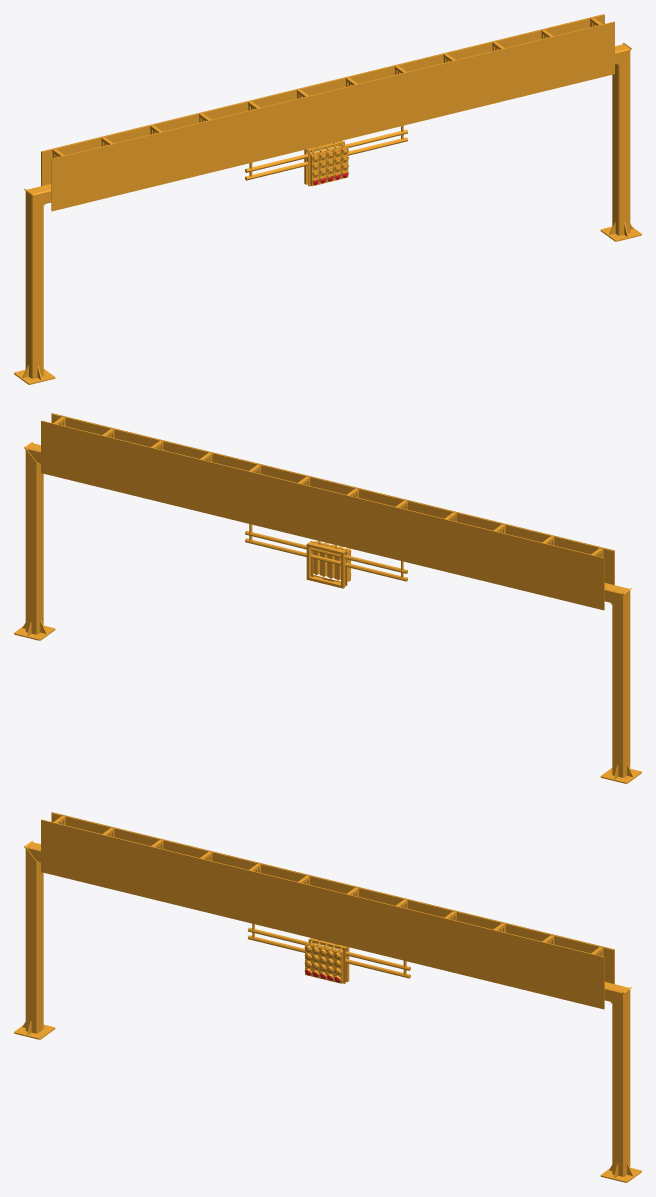
File: SM_ControlGate_Racetrack_Color.fbx
3 views of the same model, one above another, from view 1: azimuth 30°, elevation 25°; view 2: azimuth 150°, elevation 25°; view 3: azimuth 330°, elevation 25° (orthographic).
Visible parts, largest first — view 1: SM_ControlGate_Racetrack_Color; view 2: SM_ControlGate_Racetrack_Color; view 3: SM_ControlGate_Racetrack_Color.
Boxes of the visible parts, x1,y1,x2,y2 form: SM_ControlGate_Racetrack_Color: [14, 14, 641, 384]; SM_ControlGate_Racetrack_Color: [14, 413, 641, 783]; SM_ControlGate_Racetrack_Color: [14, 812, 641, 1182].
Size of the model in its own units: 25.1 by 8.52 by 1.1.
